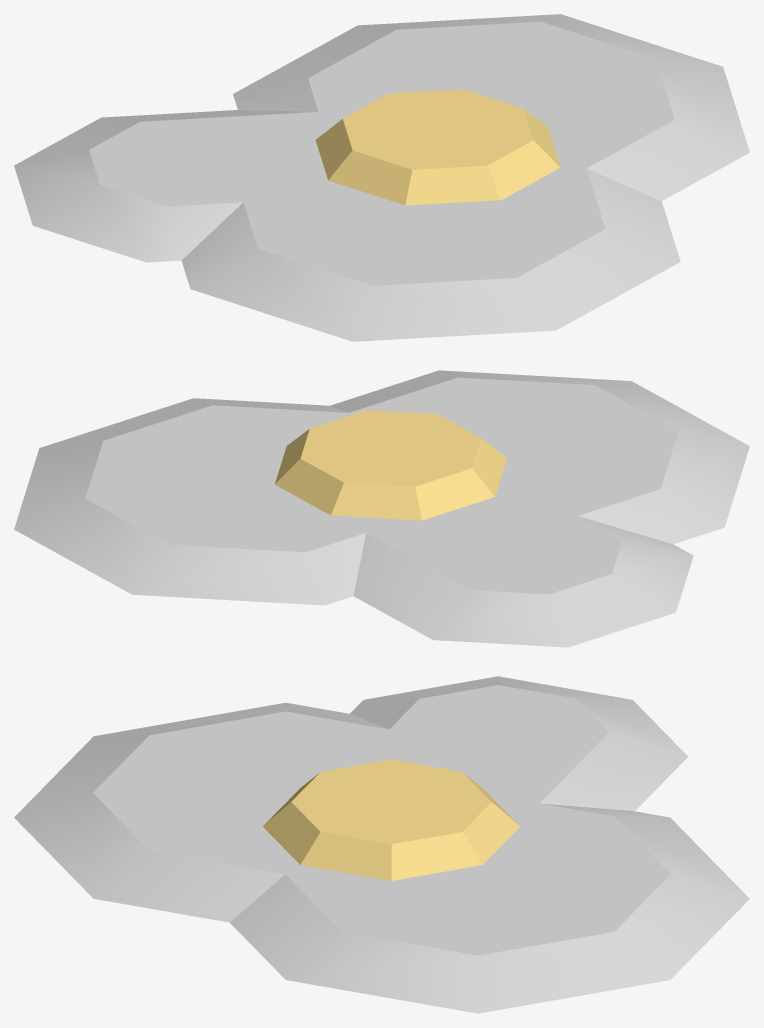
File: eggCooked.glb
3 renders of one model, top to bottom at view 1: azimuth 30°, elevation 25°; view 2: azimuth 150°, elevation 25°; view 3: azimuth 270°, elevation 25°, orthographic. The views are drawn at different scales.
Parts seen in each view (by area): view 1: eggCooked; view 2: eggCooked; view 3: eggCooked.
Part boxes in pixels (x1,y1,x2,y2): eggCooked: (14, 14, 749, 341); eggCooked: (14, 370, 749, 647); eggCooked: (14, 676, 749, 1013).
Size of the model in its own units: 0.4141 by 0.0282 by 0.3817.
